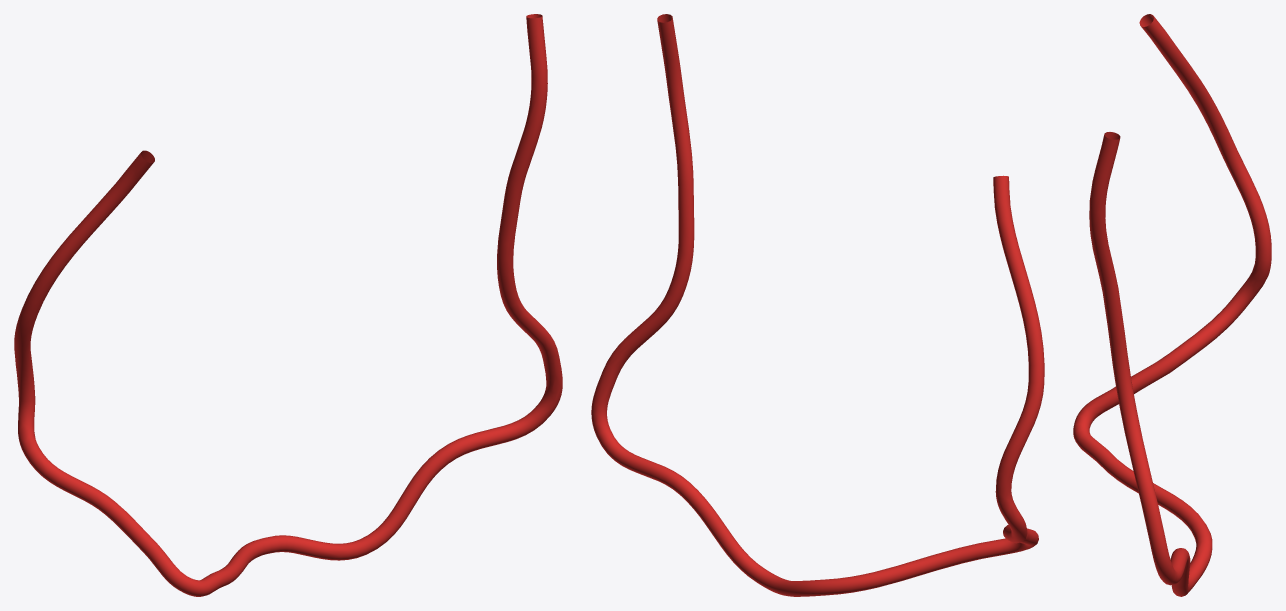
File: circulatorio-deep-venous-palmar-arch-r.glb
3 views of the same model, side by side, from view 1: azimuth 30°, elevation 25°; view 2: azimuth 150°, elevation 25°; view 3: azimuth 270°, elevation 25° (orthographic). The views are drawn at different scales.
Visible parts, largest first — view 1: Deep venous palmar arch.r; view 2: Deep venous palmar arch.r; view 3: Deep venous palmar arch.r.
Part boxes in pixels (left/top/right/bottom): Deep venous palmar arch.r: left=14, top=14, right=562, bottom=596; Deep venous palmar arch.r: left=591, top=14, right=1044, bottom=596; Deep venous palmar arch.r: left=1073, top=14, right=1271, bottom=596.
Size of the model in its own units: 0.0487 by 0.0492 by 0.0168.
